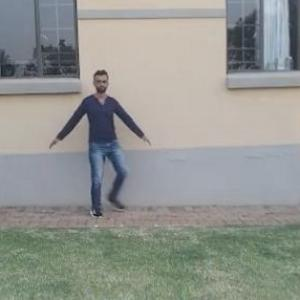land: (48, 74, 148, 226)
